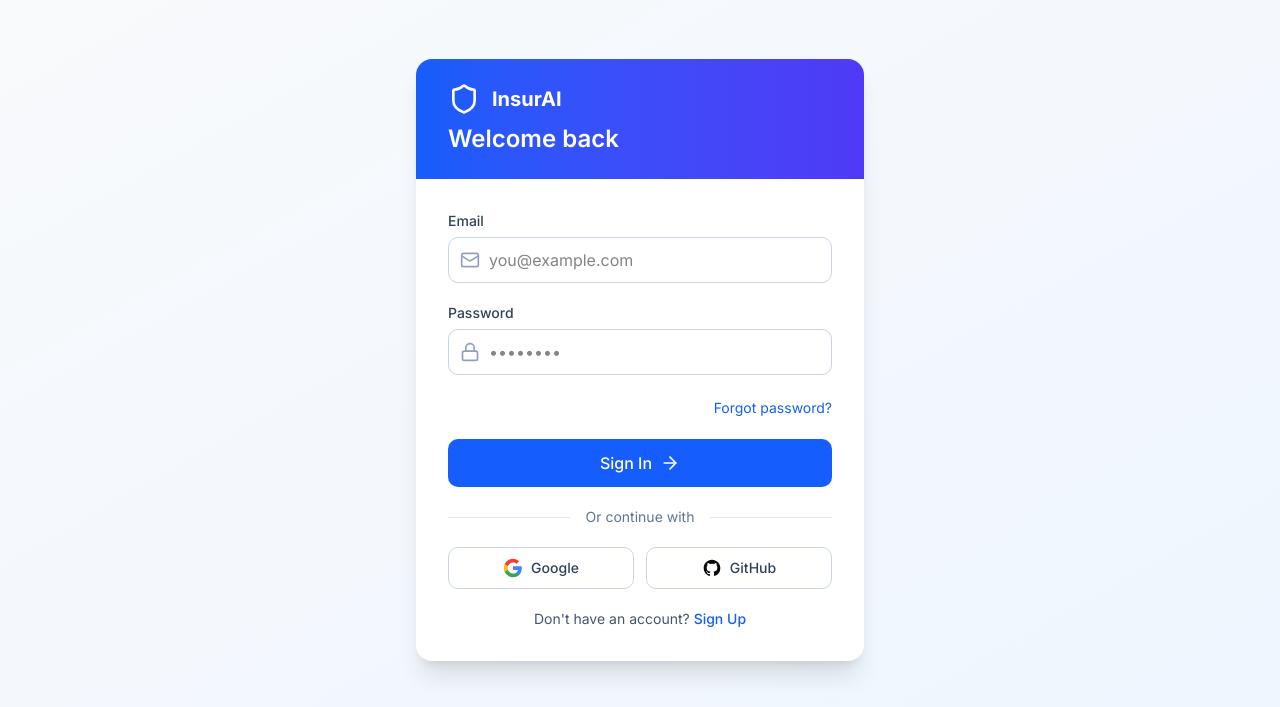
Test: AuthPage › mode toggling › switches to signup mode
Click the button "Sign Up".
click(720, 619)  # box [694,609,746,629]
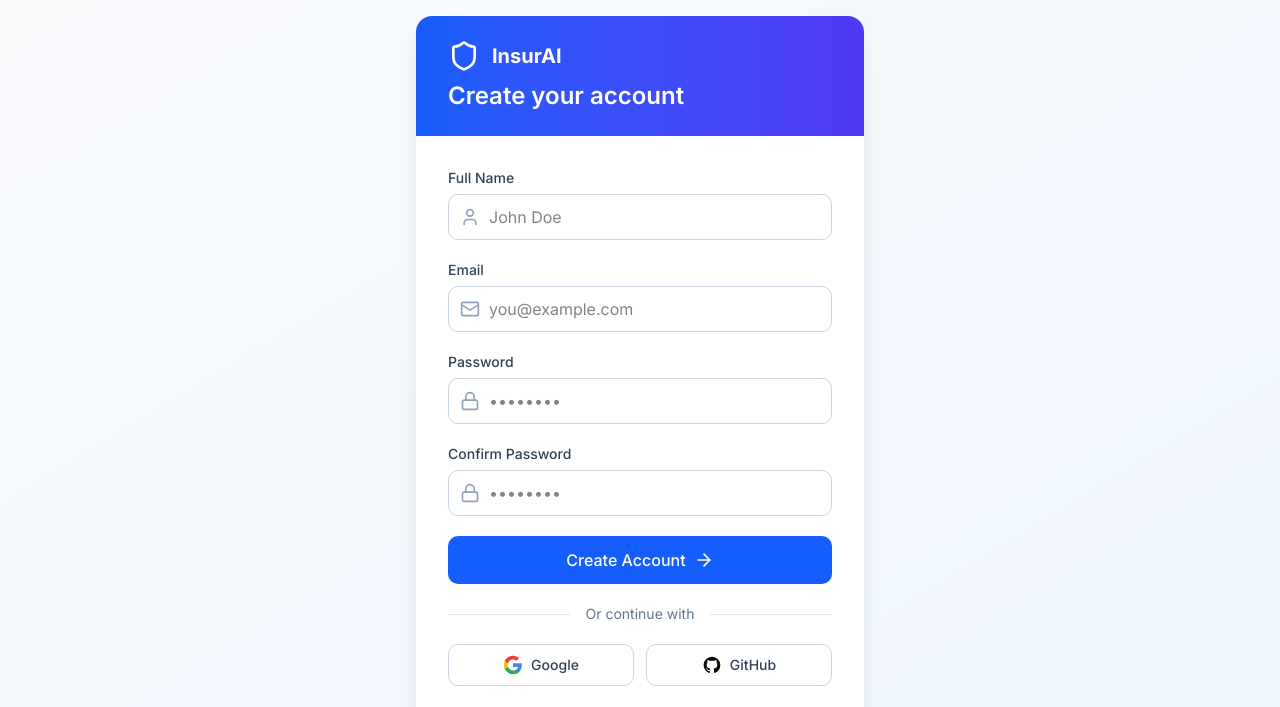
expect the heading "Create your account" is shown: met, box [448,81,684,110]
